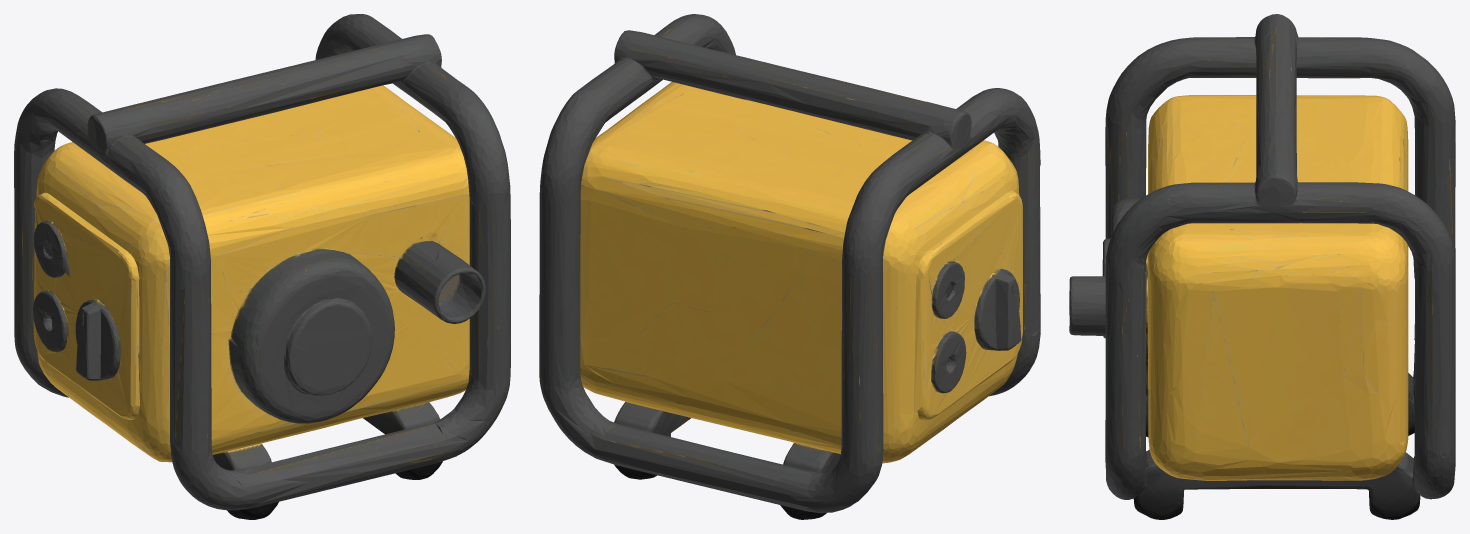
Rendered from generator_v1.glb.
3 views of the same model, side by side, from view 1: azimuth 30°, elevation 25°; view 2: azimuth 150°, elevation 25°; view 3: azimuth 270°, elevation 25° (orthographic).
Visible parts, largest first — view 1: body_mesh, plug_mesh; view 2: body_mesh, plug_mesh; view 3: body_mesh.
Boxes of the visible parts, <box> form: body_mesh: <box>14,14,510,519</box>; plug_mesh: <box>14,148,184,473</box>; body_mesh: <box>539,14,1040,519</box>; plug_mesh: <box>871,139,1040,476</box>; body_mesh: <box>1069,14,1455,519</box>.
Bounding box in the file's own units: 0.9 × 0.8663 × 0.802.
Materials: 1 (1 with a texture image).
